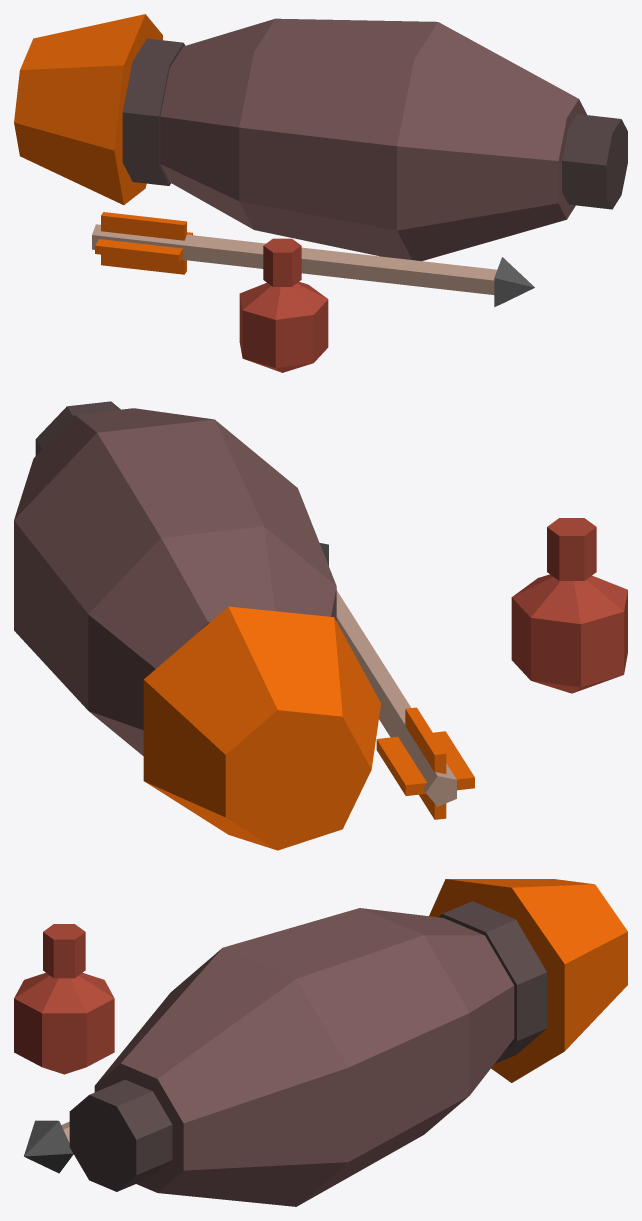
File: ce_ammo2_greatjar_flame_c.obj
3 renders of one model, top to bottom at view 1: azimuth 30°, elevation 25°; view 2: azimuth 150°, elevation 25°; view 3: azimuth 270°, elevation 25°, orthographic. The views are drawn at different scales.
Visible parts, largest first — view 1: ce_ammo2_greatjar_flame_c_2, ce_ammo2_greatjar_flame_c_1, ce_ammo2_greatjar_flame_c_5, ce_ammo2_greatjar_flame_c_3, ce_ammo2_greatjar_flame_c_6, ce_ammo2_greatjar_flame_c_10, ce_ammo2_greatjar_flame_c_4, ce_ammo2_greatjar_flame_c_0, ce_ammo2_greatjar_flame_c_9, ce_ammo2_greatjar_flame_c_11, ce_ammo2_greatjar_flame_c_8, ce_ammo2_greatjar_flame_c_7; view 2: ce_ammo2_greatjar_flame_c_5, ce_ammo2_greatjar_flame_c_2, ce_ammo2_greatjar_flame_c_3, ce_ammo2_greatjar_flame_c_10, ce_ammo2_greatjar_flame_c_6, ce_ammo2_greatjar_flame_c_1, ce_ammo2_greatjar_flame_c_11, ce_ammo2_greatjar_flame_c_8, ce_ammo2_greatjar_flame_c_9, ce_ammo2_greatjar_flame_c_0; view 3: ce_ammo2_greatjar_flame_c_1, ce_ammo2_greatjar_flame_c_2, ce_ammo2_greatjar_flame_c_5, ce_ammo2_greatjar_flame_c_0, ce_ammo2_greatjar_flame_c_10, ce_ammo2_greatjar_flame_c_3, ce_ammo2_greatjar_flame_c_4, ce_ammo2_greatjar_flame_c_11, ce_ammo2_greatjar_flame_c_7.
Boxes of the visible parts, bbox=[...] form: ce_ammo2_greatjar_flame_c_2: bbox=[239, 18, 437, 259]; ce_ammo2_greatjar_flame_c_1: bbox=[397, 22, 586, 260]; ce_ammo2_greatjar_flame_c_5: bbox=[14, 14, 162, 205]; ce_ammo2_greatjar_flame_c_3: bbox=[160, 19, 274, 229]; ce_ammo2_greatjar_flame_c_6: bbox=[92, 224, 496, 294]; ce_ammo2_greatjar_flame_c_10: bbox=[239, 281, 328, 372]; ce_ammo2_greatjar_flame_c_4: bbox=[122, 38, 185, 185]; ce_ammo2_greatjar_flame_c_0: bbox=[562, 114, 627, 209]; ce_ammo2_greatjar_flame_c_9: bbox=[101, 212, 186, 274]; ce_ammo2_greatjar_flame_c_11: bbox=[263, 238, 301, 286]; ce_ammo2_greatjar_flame_c_8: bbox=[95, 232, 192, 263]; ce_ammo2_greatjar_flame_c_7: bbox=[494, 257, 534, 306]; ce_ammo2_greatjar_flame_c_5: bbox=[143, 606, 380, 850]; ce_ammo2_greatjar_flame_c_2: bbox=[14, 419, 336, 710]; ce_ammo2_greatjar_flame_c_3: bbox=[88, 526, 336, 755]; ce_ammo2_greatjar_flame_c_10: bbox=[511, 574, 627, 693]; ce_ammo2_greatjar_flame_c_6: bbox=[336, 590, 456, 806]; ce_ammo2_greatjar_flame_c_1: bbox=[14, 408, 213, 519]; ce_ammo2_greatjar_flame_c_11: bbox=[547, 518, 596, 580]; ce_ammo2_greatjar_flame_c_8: bbox=[376, 731, 474, 795]; ce_ammo2_greatjar_flame_c_9: bbox=[405, 707, 446, 819]; ce_ammo2_greatjar_flame_c_0: bbox=[35, 401, 120, 455]; ce_ammo2_greatjar_flame_c_1: bbox=[94, 948, 348, 1206]; ce_ammo2_greatjar_flame_c_2: bbox=[223, 908, 469, 1206]; ce_ammo2_greatjar_flame_c_5: bbox=[429, 879, 627, 1082]; ce_ammo2_greatjar_flame_c_0: bbox=[69, 1079, 172, 1191]; ce_ammo2_greatjar_flame_c_10: bbox=[14, 972, 114, 1074]; ce_ammo2_greatjar_flame_c_3: bbox=[360, 908, 514, 1095]; ce_ammo2_greatjar_flame_c_4: bbox=[438, 901, 546, 1063]; ce_ammo2_greatjar_flame_c_11: bbox=[43, 924, 85, 978]; ce_ammo2_greatjar_flame_c_7: bbox=[24, 1120, 73, 1173].
Size of the model in its own units: 0.6615 by 0.3078 by 0.7212.
